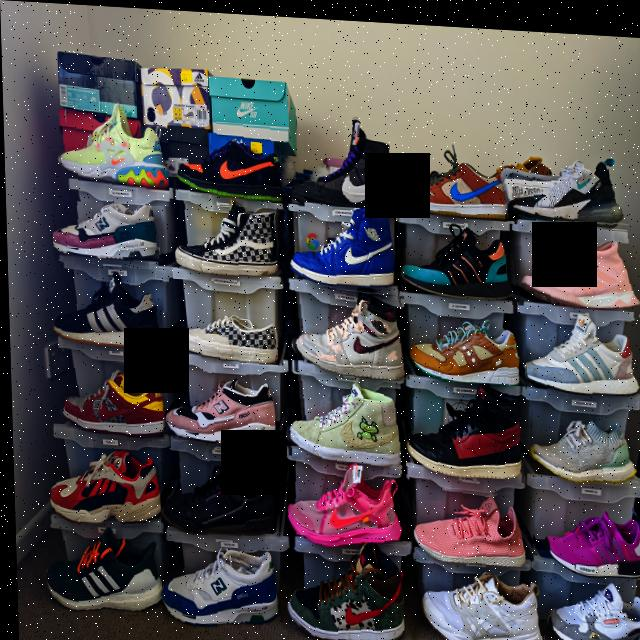shoe: (279, 530, 413, 640), (401, 374, 526, 479), (283, 452, 409, 555), (36, 523, 161, 622), (509, 216, 640, 310), (516, 299, 640, 396), (55, 101, 169, 205), (278, 367, 400, 464), (283, 103, 399, 205), (285, 279, 405, 377), (156, 451, 281, 545), (175, 116, 304, 207), (157, 543, 280, 638), (282, 195, 403, 291), (43, 260, 169, 352), (394, 208, 517, 300), (403, 479, 531, 567), (40, 444, 164, 534), (401, 302, 525, 390), (414, 555, 542, 640), (499, 139, 628, 223), (169, 190, 284, 282), (158, 367, 278, 451), (50, 357, 168, 441), (388, 136, 510, 216), (521, 406, 640, 484), (51, 198, 162, 275), (537, 496, 640, 576), (535, 563, 640, 640), (169, 300, 282, 364)
